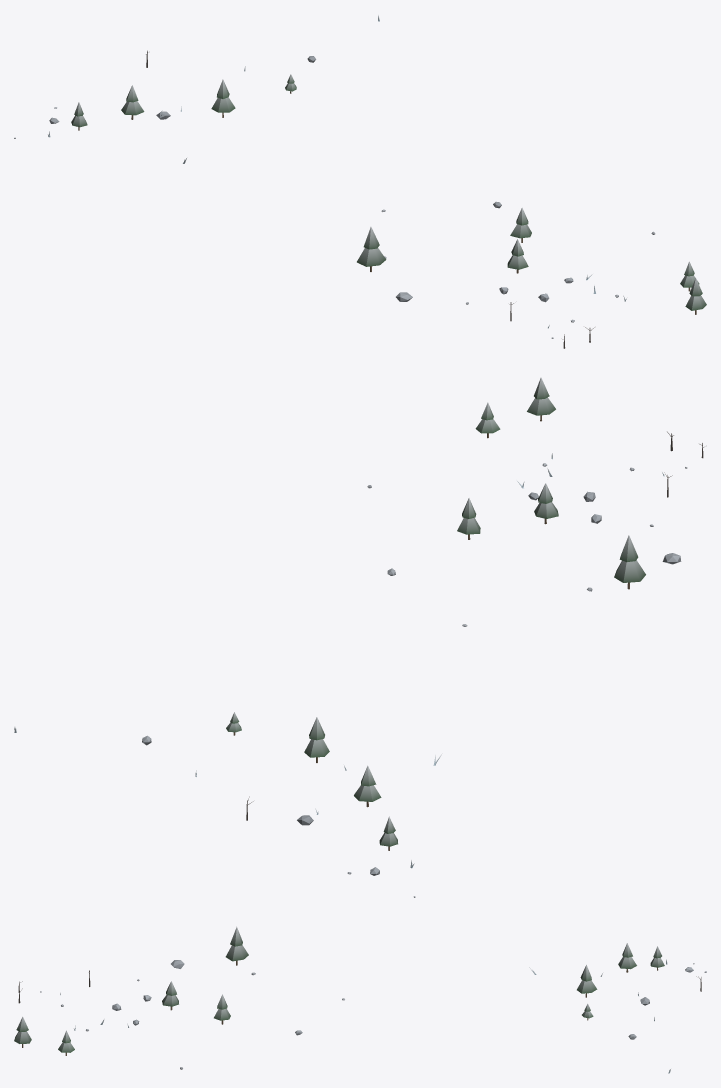
The model's file is frost_land_scatter_c18_12_lod1.glb.
3 renders of one model, top to bottom at view 1: azimuth 30°, elevation 25°; view 2: azimuth 150°, elevation 25°; view 3: azimuth 270°, elevation 25°, orthographic. The views are drawn at different scales.
Visible parts, largest first — view 1: frost_land_scatter_c18_12_lod1; view 2: frost_land_scatter_c18_12_lod1; view 3: frost_land_scatter_c18_12_lod1.
Boxes of the visible parts, x1=… form: frost_land_scatter_c18_12_lod1: x1=14, y1=15, x2=706, y2=348; frost_land_scatter_c18_12_lod1: x1=14, y1=377, x2=703, y2=897; frost_land_scatter_c18_12_lod1: x1=14, y1=926, x2=706, y2=1073.
Size of the model in its own units: 127 by 30.25 by 255.
